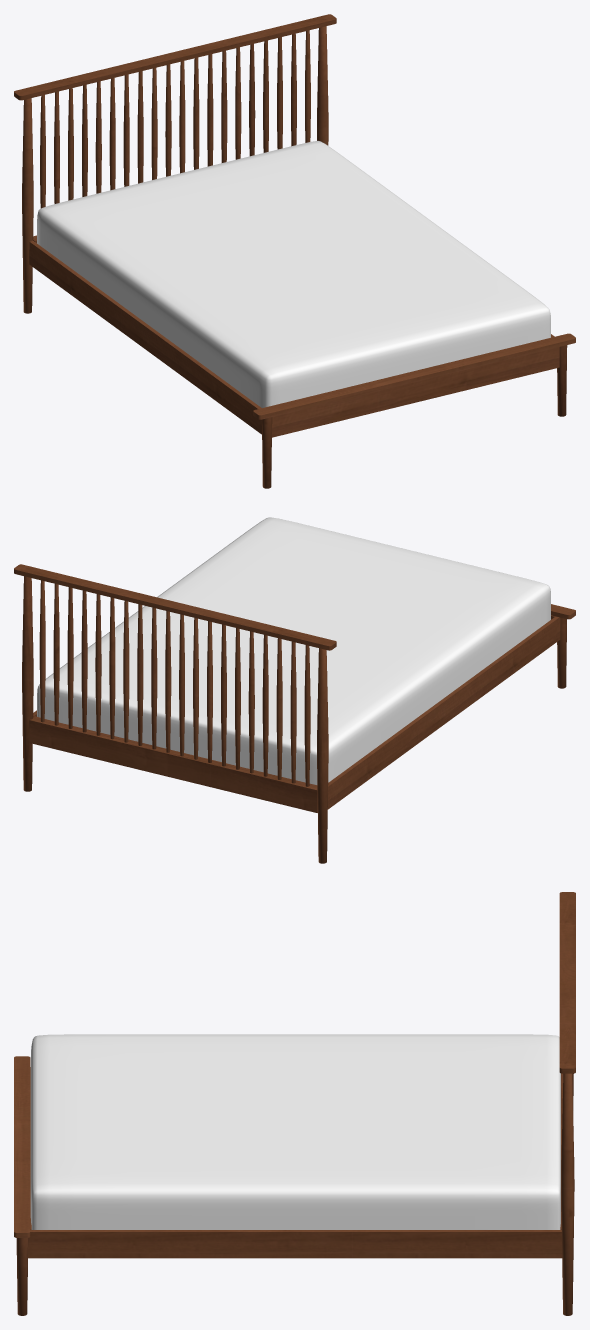
File: bed_10_01.fbx
3 renders of one model, top to bottom at view 1: azimuth 30°, elevation 25°; view 2: azimuth 150°, elevation 25°; view 3: azimuth 270°, elevation 25°, orthographic. The views are drawn at different scales.
Visible parts, largest first — view 1: bed_10_01.001; view 2: bed_10_01.001; view 3: bed_10_01.001.
Boxes of the visible parts, box(x1,y1,x2,y2) form: bed_10_01.001: box(14, 14, 575, 488); bed_10_01.001: box(14, 517, 575, 863); bed_10_01.001: box(14, 892, 575, 1315).
Size of the model in its own units: 158 by 105 by 212.
1 material, 1 textured.
